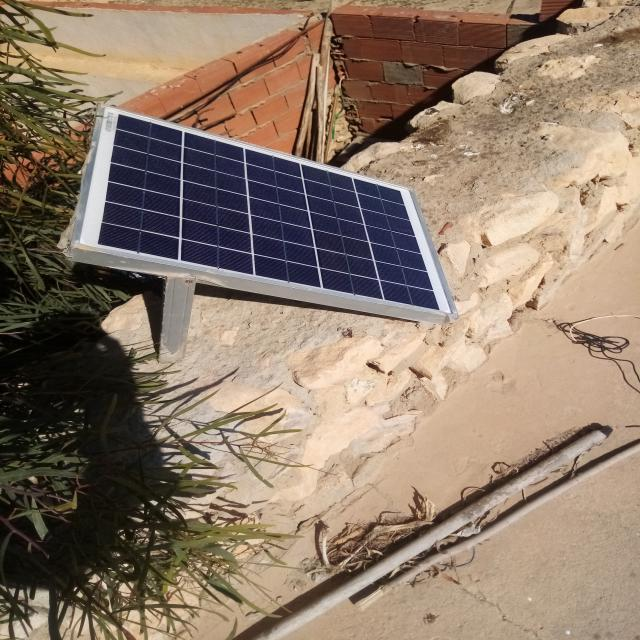no faulty: (80, 105, 455, 314)
